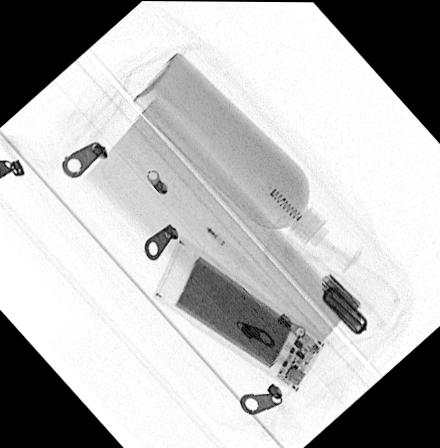Powerbank: (152, 234, 326, 394)
